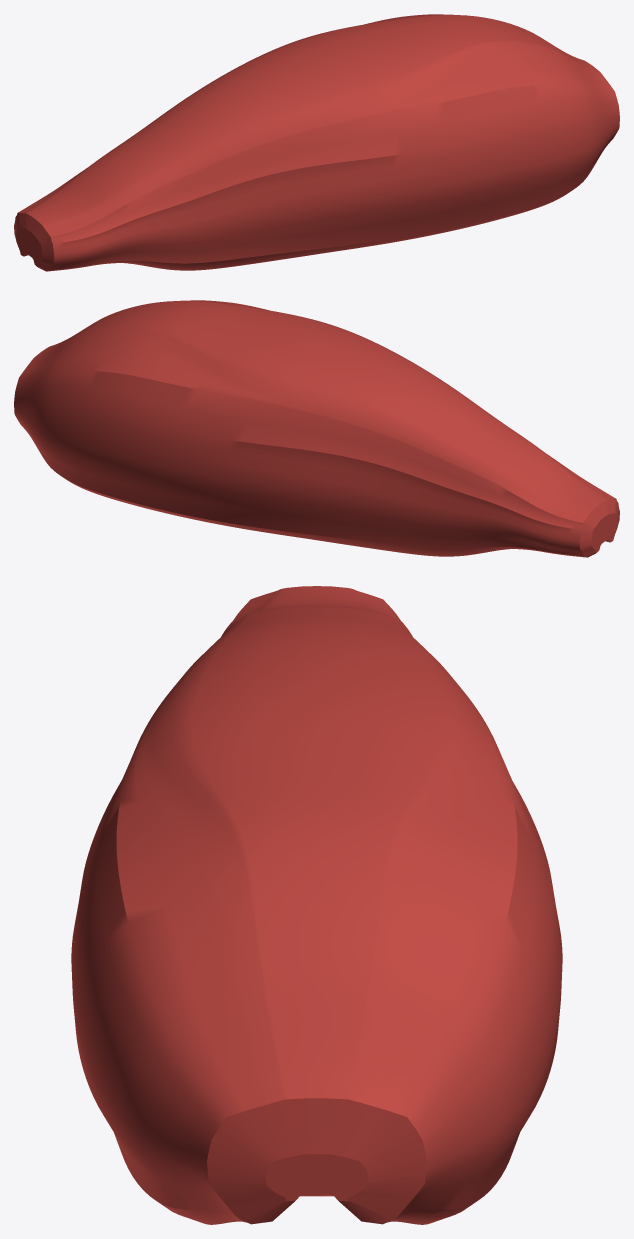
The model's file is cruiser_3_lod1.glb.
3 views of the same model, one above another, from view 1: azimuth 30°, elevation 25°; view 2: azimuth 150°, elevation 25°; view 3: azimuth 270°, elevation 25° (orthographic). The views are drawn at different scales.
Parts seen in each view (by area): view 1: cruiser_3_lod1; view 2: cruiser_3_lod1; view 3: cruiser_3_lod1.
Part boxes in pixels (<box>): cruiser_3_lod1: <box>14,14,619,271</box>; cruiser_3_lod1: <box>14,300,619,557</box>; cruiser_3_lod1: <box>71,586,562,1224</box>.
Bounding box in the file's own units: 1.06 × 0.2987 × 0.3986.
